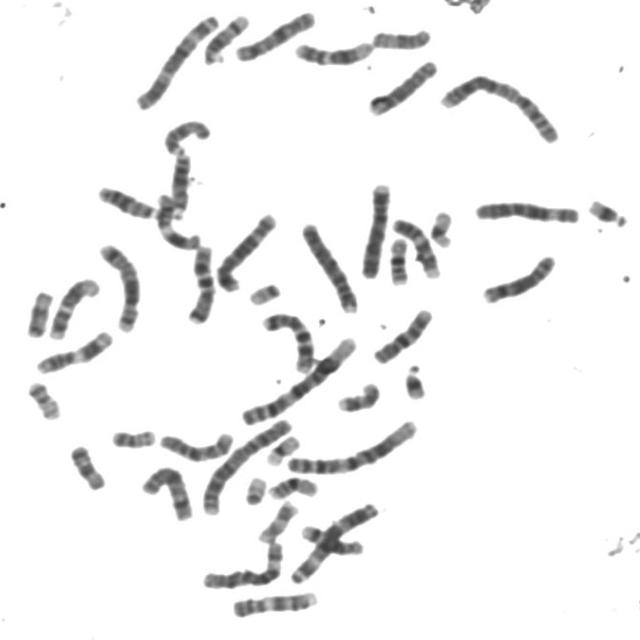A1: (236, 330, 362, 428), (282, 412, 422, 477)
A2: (198, 412, 297, 516), (435, 67, 565, 145)
A3: (130, 6, 223, 111), (286, 495, 384, 585)
B4: (296, 215, 363, 314), (355, 176, 395, 280)
B5: (212, 205, 281, 294), (93, 236, 145, 334)
C10: (368, 301, 438, 366), (155, 425, 237, 463)
C11: (30, 324, 117, 376), (152, 186, 205, 252)
C12: (44, 270, 104, 342), (290, 33, 378, 67)
C6: (198, 535, 288, 591), (470, 194, 584, 226)
C7: (257, 305, 319, 374), (182, 238, 218, 326)
C8: (363, 52, 442, 118), (478, 248, 560, 306)
C9: (388, 213, 444, 279), (227, 584, 322, 620)
D13: (93, 179, 163, 221), (165, 148, 195, 220)
D14: (198, 8, 252, 66), (296, 518, 368, 557)
D15: (158, 114, 214, 156), (367, 22, 435, 51)
E16: (264, 470, 322, 500), (384, 231, 413, 286)
E17: (254, 495, 301, 544), (332, 376, 384, 414)
E18: (65, 438, 110, 492), (21, 284, 57, 340)
F19: (262, 428, 304, 467), (424, 204, 458, 249)
F20: (22, 374, 64, 421), (106, 422, 160, 450)
G21: (583, 192, 632, 230), (400, 358, 430, 402)
G22: (244, 276, 285, 306), (239, 469, 270, 506)
X: (230, 3, 319, 62), (136, 460, 197, 522)
